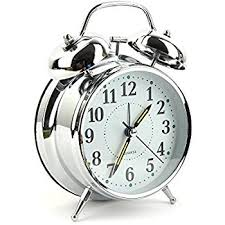alarm_clock: (36, 0, 191, 220)
